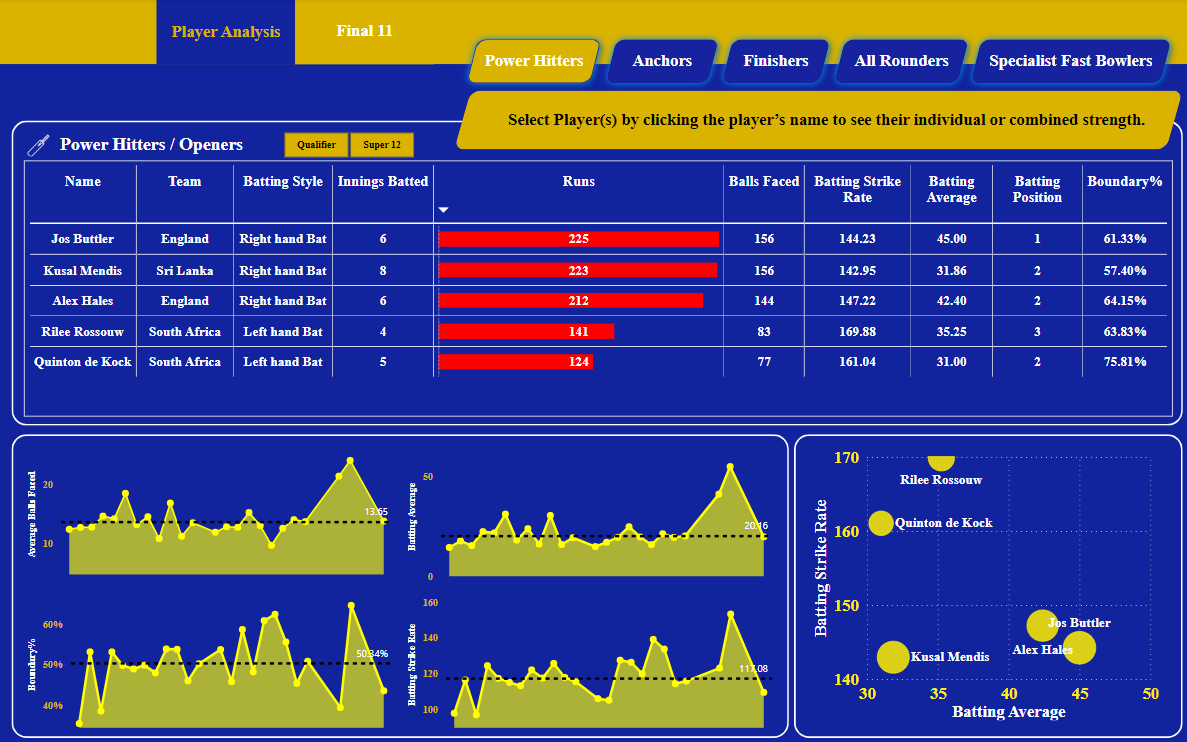

The page's visual inventory and layout, read from the dashboard file:
{"tool":"powerbi","page":{"name":"Power Hitters / Openers","canvas":[1435,900],"ordinal":0},"visuals":[{"type":"shape","box":[0,79.9,1435.3,820.2],"z":0},{"type":"group","id":"g1","title":"Group 2","box":[71.3,162,226.1,31.7],"z":0,"group":"g2"},{"type":"shape","box":[71.3,162,226.1,31.7],"z":0,"group":"g1"},{"type":"shape","box":[15.1,147.8,1412.7,367.9],"z":1000},{"type":"image","box":[25.6,159.8,44,36],"z":1000,"group":"g2"},{"type":"shape","box":[548.8,111.6,879,70.9],"z":2000},{"type":"shape","box":[958.9,526.2,468.9,366.4],"z":3000},{"type":"tableEx","fields":{"Values":["dim_players.Name","dim_players.Team","dim_players.Batting Style","Measure.Total Innings Batted","Measure.Total Runs","Measure.Total Balls Faced","Measure.Strike Rate","Measure.Batting Average","Measure.Batting Position","Measure.Boundary%"]},"box":[30.2,196,1385.6,309.1],"z":4000},{"type":"card","fields":{"Values":["Measure.Average Balls Faced"]},"box":[815.7,111.6,138.7,70.9],"z":5000},{"type":"slicer","fields":{"Values":["dim_match_summary.Stage"]},"box":[318.1,155.3,206.6,43.7],"z":6000},{"type":"scatterChart","fields":{"Category":["dim_players.Name"],"X":["Measure.Batting Average"],"Size":["Measure.Total Runs"],"Y":["Measure.Strike Rate"]},"box":[975.5,536.7,428.2,339.2],"z":7000},{"type":"group","id":"g2","title":"Group 1","box":[25.6,159.8,271.4,36.2],"z":8000},{"type":"card","fields":{"Values":["Measure.Boundary%"]},"box":[1117.2,111.6,123.6,70.9],"z":9000},{"type":"card","fields":{"Values":["Measure.Strike Rate"]},"box":[1260.4,111.6,123.6,70.9],"z":10000},{"type":"card","fields":{"Values":["Measure.Batting Average"]},"box":[975.5,111.6,125.1,70.9],"z":11000},{"type":"actionButton","box":[554.8,40.7,180.9,70.9],"z":12000},{"type":"actionButton","box":[722.2,40.7,155.3,70.9],"z":13000},{"type":"actionButton","box":[1162.4,40.7,260.8,70.9],"z":14000},{"type":"actionButton","box":[998.1,40.7,180.9,70.9],"z":15000},{"type":"actionButton","box":[862.4,40.7,149.3,70.9],"z":16000},{"type":"shape","box":[15.1,526.2,937.8,366.4],"z":17000},{"type":"areaChart","fields":{"Y":["Measure.Batting Average"],"Category":["dim_match_summary.Match Date"]},"box":[488.5,539.7,449.3,170.4],"z":18000},{"type":"areaChart","fields":{"Y":["Measure.Strike Rate"],"Category":["dim_match_summary.Match Date"]},"box":[488.5,714.6,449.3,170.4],"z":19000},{"type":"areaChart","fields":{"Y":["Measure.Boundary%"],"Category":["dim_match_summary.Match Date"]},"box":[30.2,714.6,449.3,170.4],"z":20000},{"type":"areaChart","fields":{"Y":["Measure.Average Balls Faced"],"Category":["dim_match_summary.Match Date"]},"box":[30.2,536.7,449.3,170.4],"z":21000},{"type":"actionButton","box":[190,1.5,167.4,78.4],"z":22000},{"type":"actionButton","box":[357.3,0,167.4,79.9],"z":23000},{"type":"shape","box":[585,125.1,215.6,43.7],"z":24000},{"type":"shape","box":[612.1,125.1,771.9,43.7],"z":25000}]}

Visuals, with their boxes in screenshot pixels (x1, y1, x2, y2), scaled from the page's 1435x900 canvas onto the 1187x742 screenshot:
shape: 0:66:1186:741
"Group 2" group: 59:134:246:160
shape: 59:134:246:160
shape: 12:122:1181:425
image: 21:132:58:161
shape: 454:92:1181:150
shape: 793:434:1181:736
tableEx - dim_players.Name x dim_players.Team: 25:162:1171:416
card - Measure.Average Balls Faced: 675:92:789:150
slicer - dim_match_summary.Stage: 263:128:434:164
scatterChart - dim_players.Name x Measure.Batting Average: 807:442:1161:722
"Group 1" group: 21:132:246:162
card - Measure.Boundary%: 924:92:1026:150
card - Measure.Strike Rate: 1043:92:1145:150
card - Measure.Batting Average: 807:92:910:150
actionButton: 459:34:609:92
actionButton: 597:34:726:92
actionButton: 962:34:1177:92
actionButton: 826:34:975:92
actionButton: 713:34:837:92
shape: 12:434:788:736
areaChart - Measure.Batting Average x dim_match_summary.Match Date: 404:445:776:585
areaChart - Measure.Strike Rate x dim_match_summary.Match Date: 404:589:776:730
areaChart - Measure.Boundary% x dim_match_summary.Match Date: 25:589:397:730
areaChart - Measure.Average Balls Faced x dim_match_summary.Match Date: 25:442:397:583
actionButton: 157:1:296:66
actionButton: 296:0:434:66
shape: 484:103:662:139
shape: 506:103:1145:139
